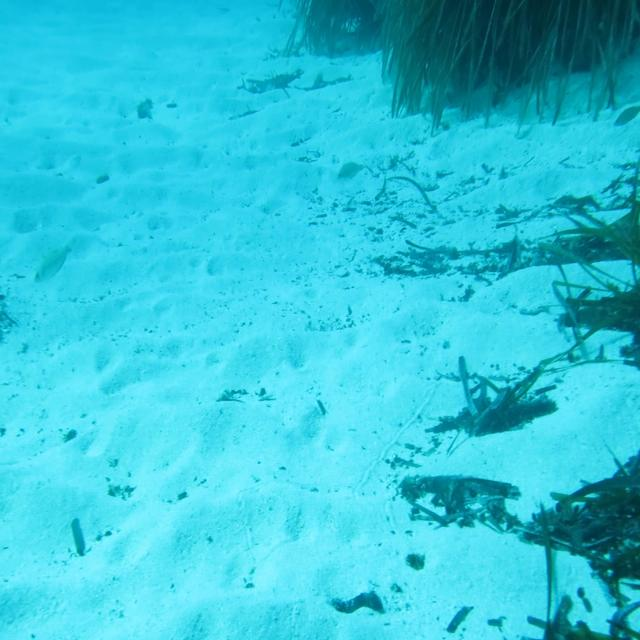BN: (31, 233, 78, 288)
female: (332, 156, 372, 190)
vegetation: (391, 0, 640, 84), (546, 274, 640, 360), (535, 482, 640, 556), (311, 0, 388, 56), (402, 478, 508, 517), (524, 595, 612, 640), (458, 391, 534, 434), (380, 252, 502, 278), (332, 590, 385, 622), (443, 607, 469, 640), (68, 518, 85, 562), (406, 550, 428, 574)
